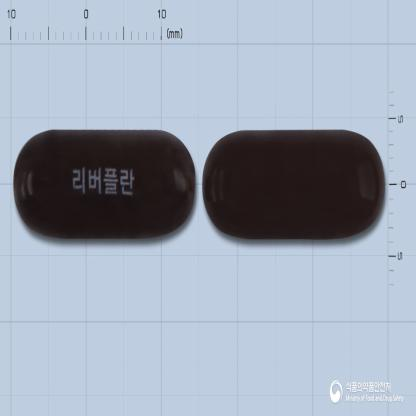pill: (12, 128, 196, 241), (201, 127, 385, 240)
